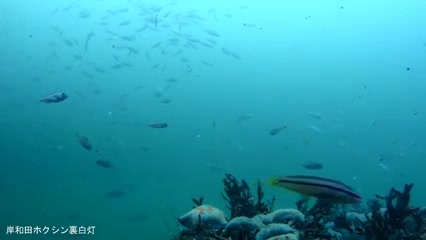bera: (263, 160, 368, 211)
